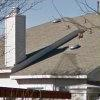Chimney: (2, 3, 29, 67)
